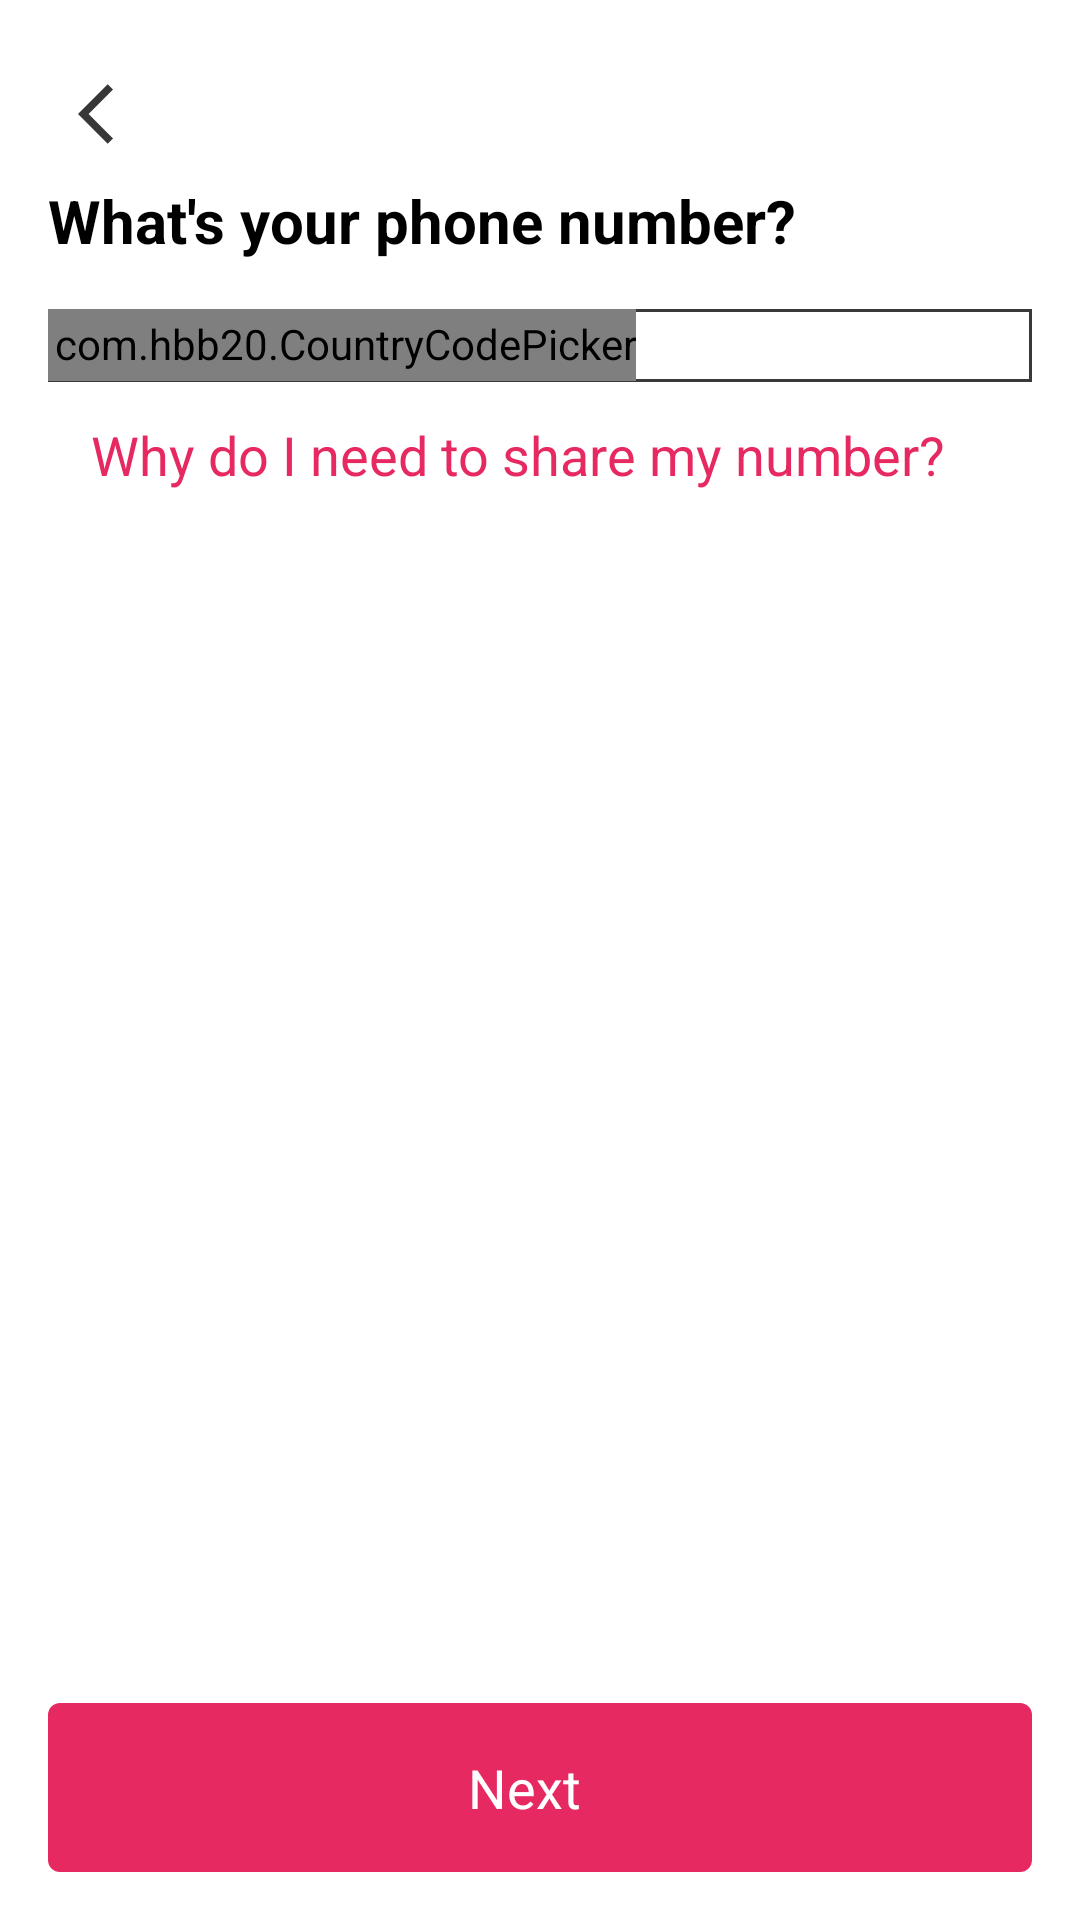

Locate icon controls on the screen. Image size 1080w x 1920h, boxes as box=[x1, y1, x2, y2].
arrow back: box=[78, 84, 113, 144]
